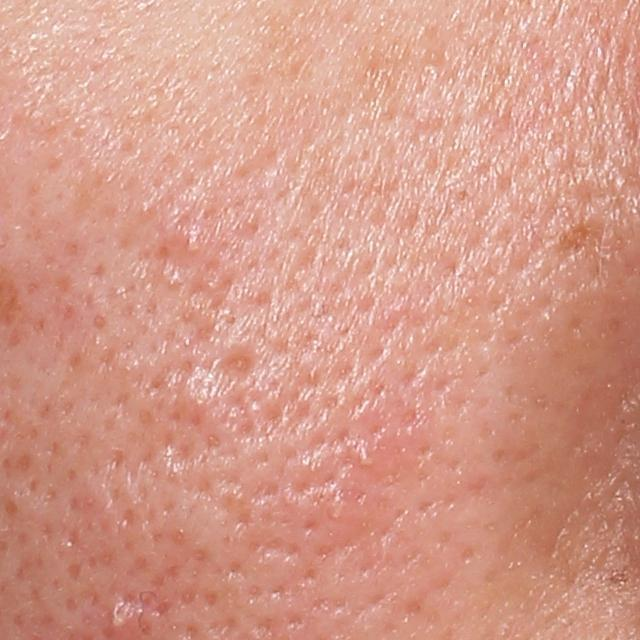atrophic_scar: (212, 345, 256, 379)
comedo: (182, 232, 202, 260)
pustule: (99, 601, 149, 638)
